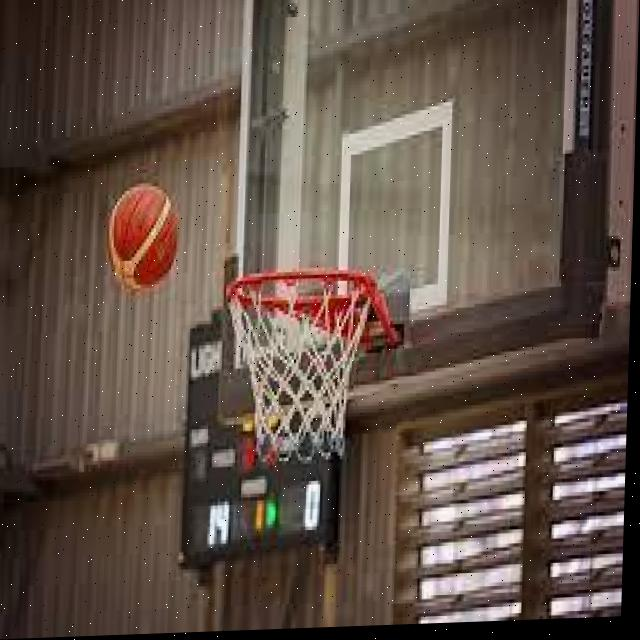basketball: (105, 182, 178, 286)
hoop: (223, 266, 373, 463)
